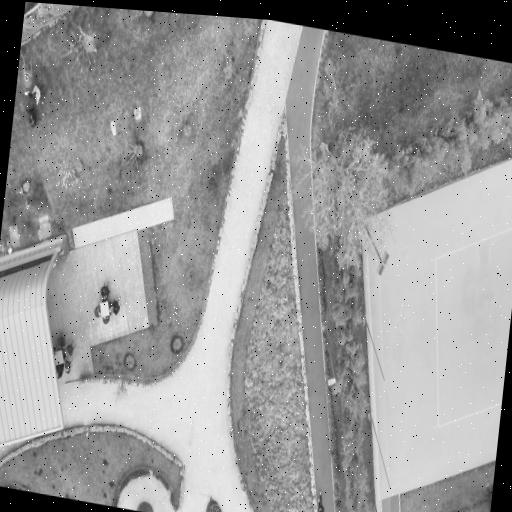person: (25, 85, 40, 103), (26, 106, 38, 126), (111, 299, 120, 315), (318, 491, 324, 511), (101, 285, 109, 300), (57, 363, 64, 378)
